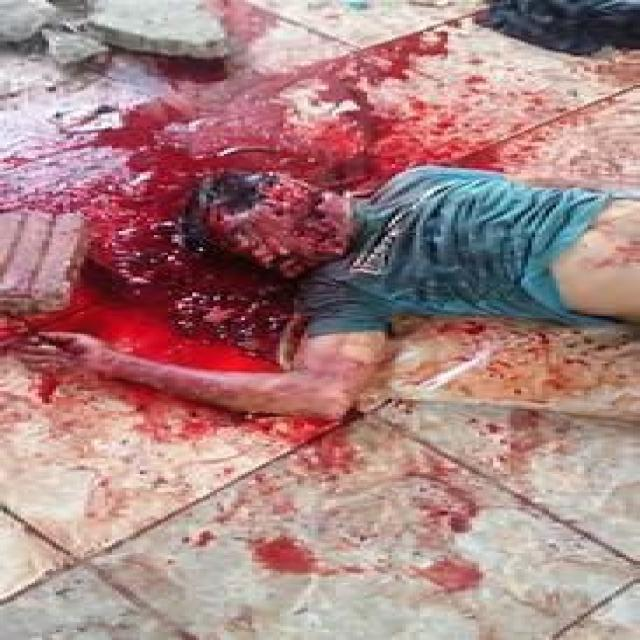flood: (35, 70, 322, 416)
